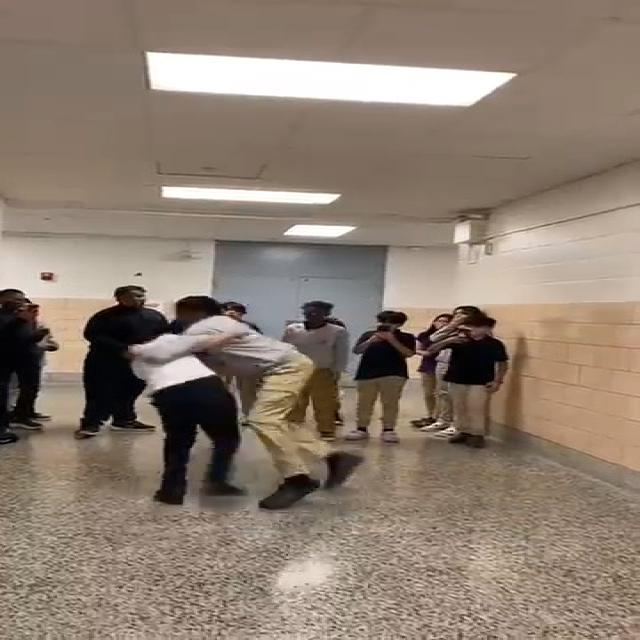fight: (122, 290, 364, 516)
